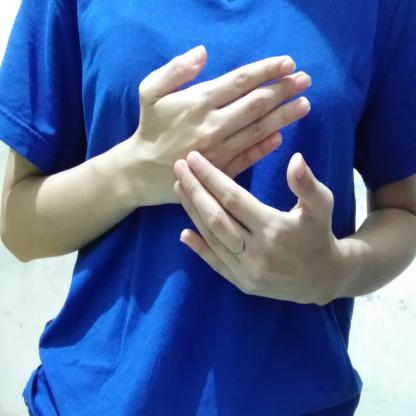thank you: (124, 41, 343, 315)
